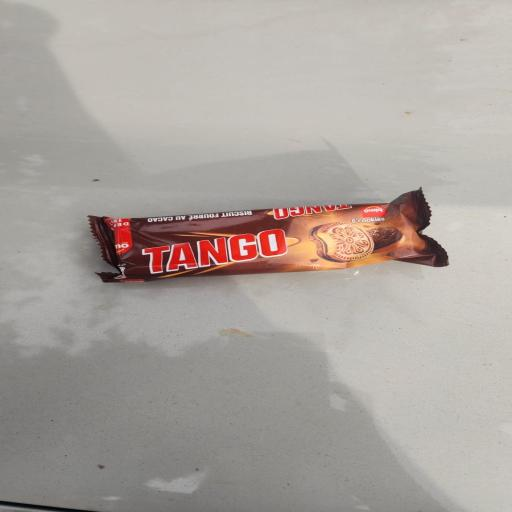tango: (74, 144, 512, 331)
